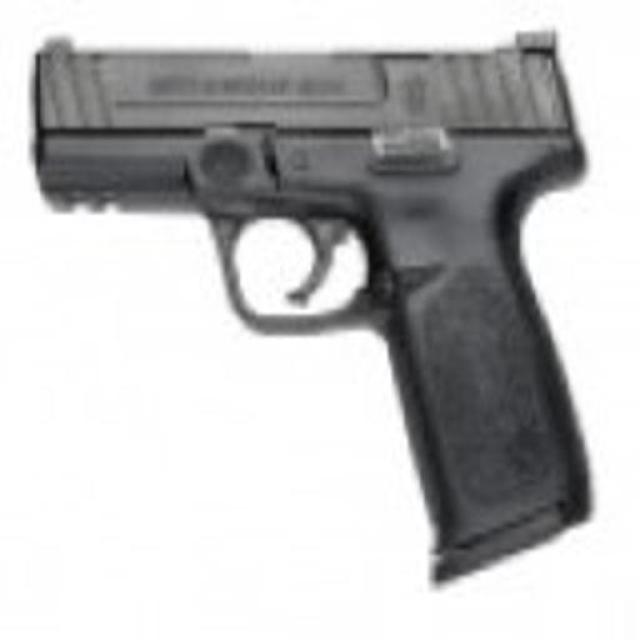pistol: (23, 15, 591, 586)
